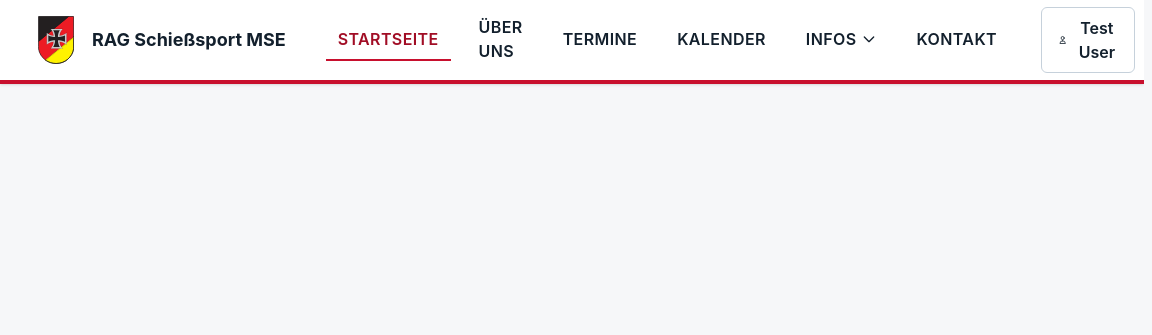
Test case: Navigation › opens user menu dropdown when user clicks on username
Expected: the text "Test User" is shown, left=1079, top=18, right=1115, bottom=62
Click the button "Test User".
click(1088, 40)  # box left=1041, top=7, right=1135, bottom=73
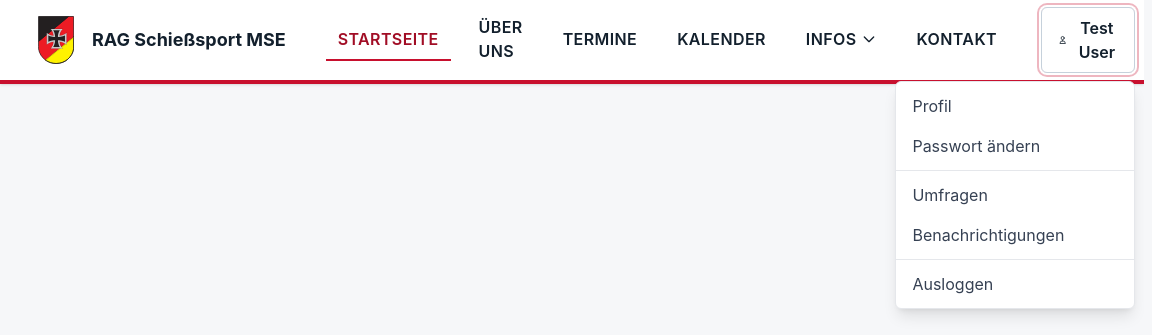
Now the link "Profil" is shown, box left=912, top=96, right=952, bottom=116
Now the link "Benachrichtigungen" is shown, box left=912, top=225, right=1064, bottom=245
Now the button "Ausloggen" is shown, box left=896, top=264, right=1134, bottom=304
